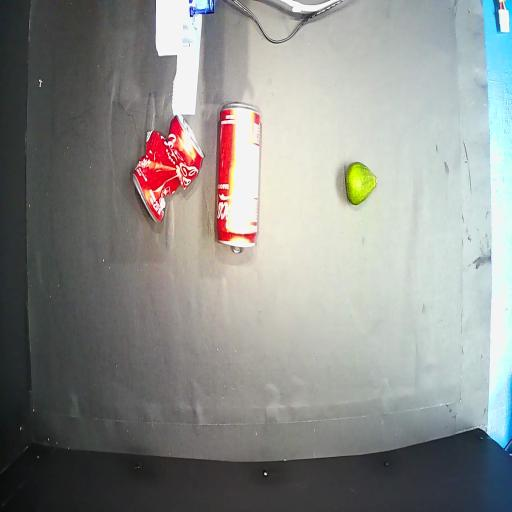higo: (345, 162, 377, 205)
lata: (217, 103, 261, 251)
lata_defectuoso: (133, 115, 204, 222)
